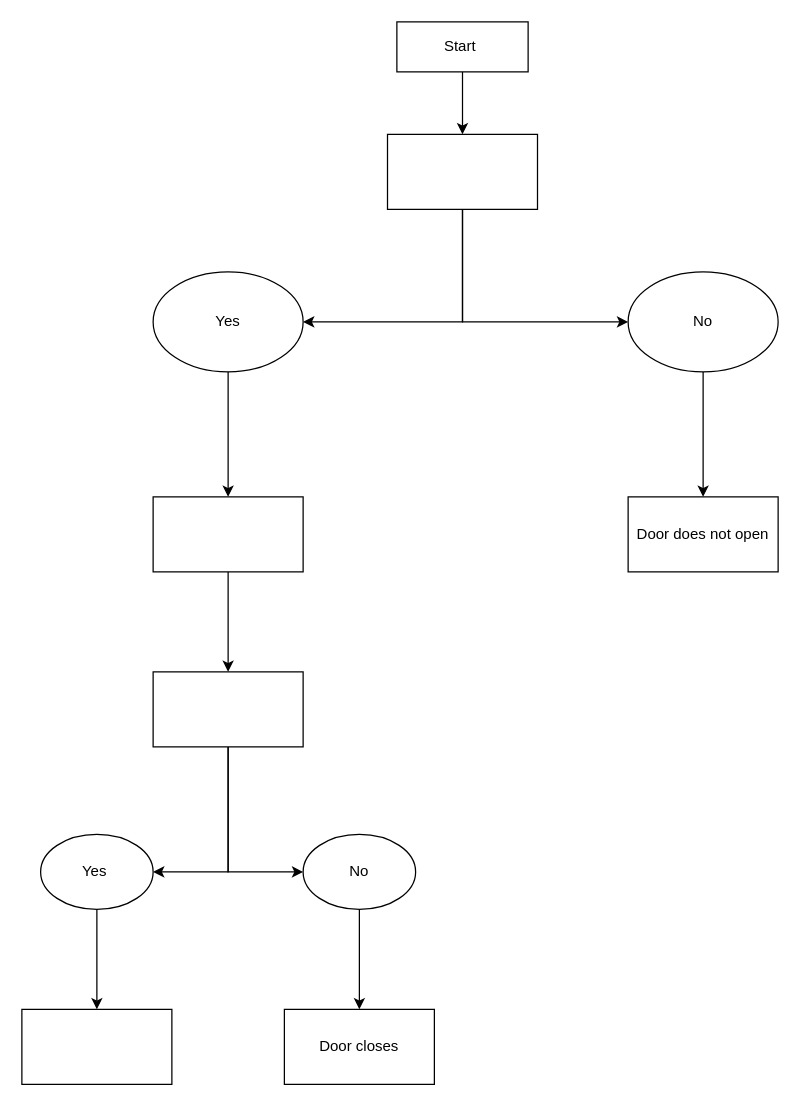
Image size: 800x1106. Some labels were removed from this diagram. Here are the shapes that lost their labels. From the top down, the box of each, then its label:
(386, 133, 538, 209): Check NFC Tag Validity
(152, 496, 303, 572): Door Opens
(152, 671, 303, 747): Is cat still present?
(21, 1008, 172, 1084): Door Stays Open
